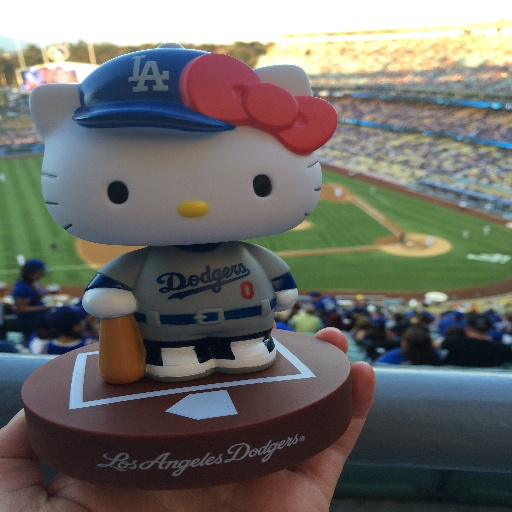hand: (0, 322, 376, 511)
